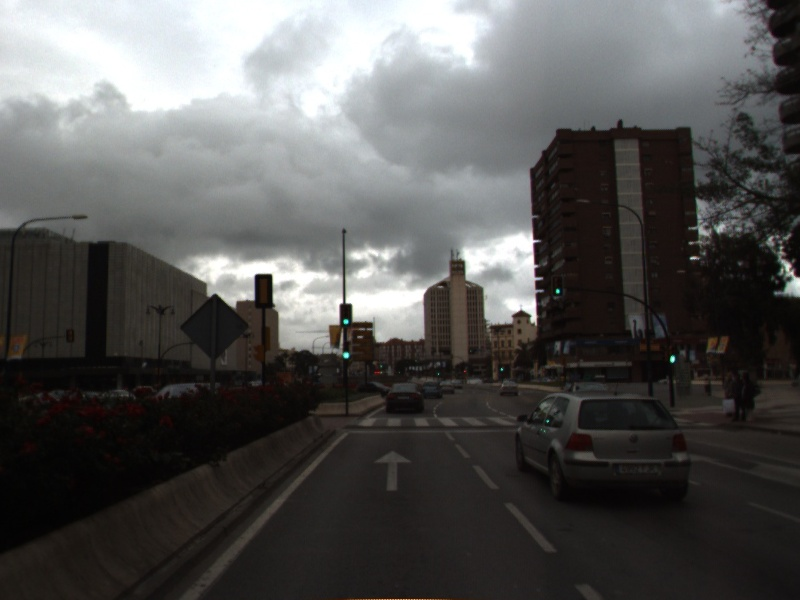STRAIGHT: (371, 448, 414, 493)
STRAIGHT_RIGHT: (687, 451, 800, 490)
